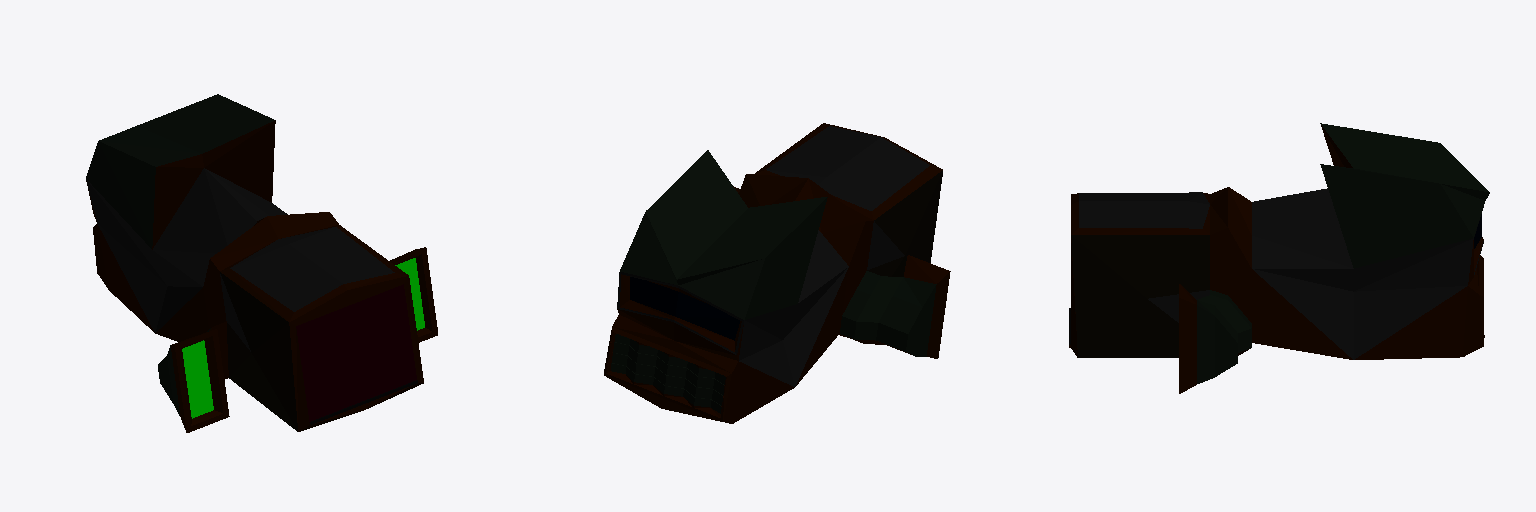
Rendered from Scavenger_Idle_3.obj.
The picture shows the model from 3 angles: view 1: azimuth 30°, elevation 25°; view 2: azimuth 150°, elevation 25°; view 3: azimuth 270°, elevation 25°; orthographic projection.
Parts seen in each view (by area): view 1: Cube.001; view 2: Cube.001; view 3: Cube.001.
Boxes of the visible parts, box(x1,y1,x2,y2) form: Cube.001: box(86, 94, 437, 432); Cube.001: box(604, 123, 950, 423); Cube.001: box(1069, 123, 1489, 393).
Size of the model in its own units: 8.77 by 7.07 by 12.11.